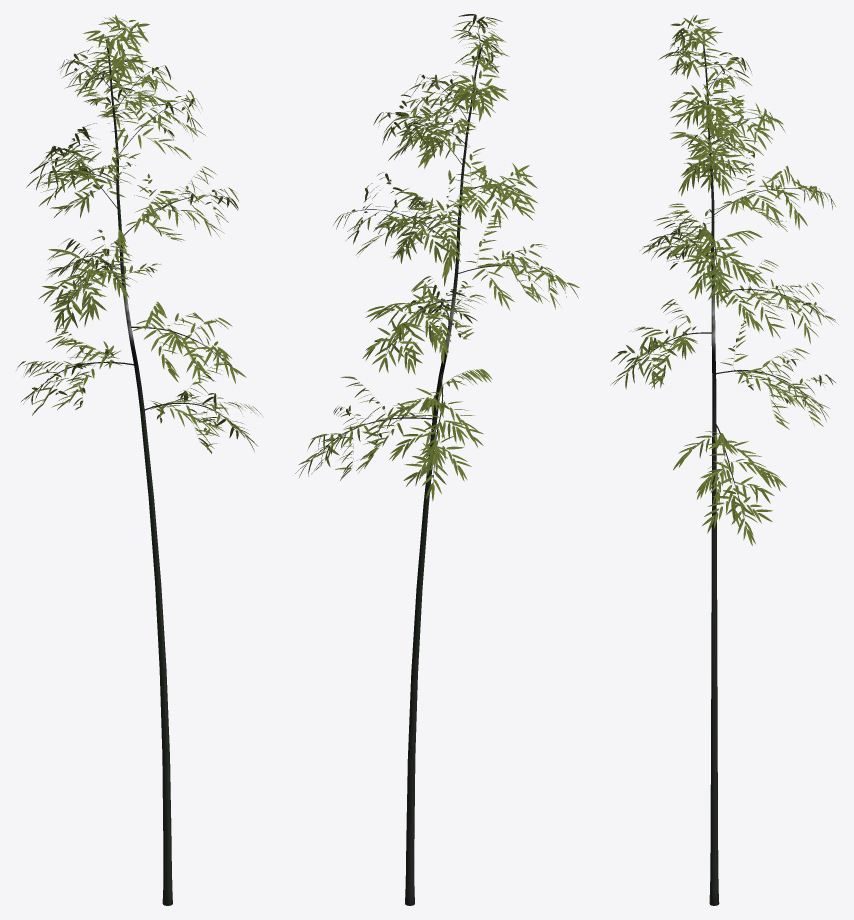
The picture shows the model from 3 angles, left to right: view 1: azimuth 30°, elevation 25°; view 2: azimuth 150°, elevation 25°; view 3: azimuth 270°, elevation 25°; orthographic projection. The views are drawn at different scales.
Parts seen in each view (by area): view 1: Bamboo_Tall_1.Shape; view 2: Bamboo_Tall_1.Shape; view 3: Bamboo_Tall_1.Shape.
Part boxes in pixels (x1=…): Bamboo_Tall_1.Shape: x1=16, y1=14, x2=263, y2=905; Bamboo_Tall_1.Shape: x1=295, y1=14, x2=579, y2=905; Bamboo_Tall_1.Shape: x1=610, y1=15, x2=838, y2=905.
Bounding box in the file's own units: 0.9944 × 3.56 × 0.8646.
3 materials, 2 textured.
